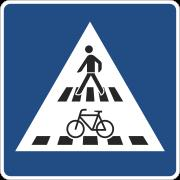Cycle Crossing: (22, 93, 161, 160)
